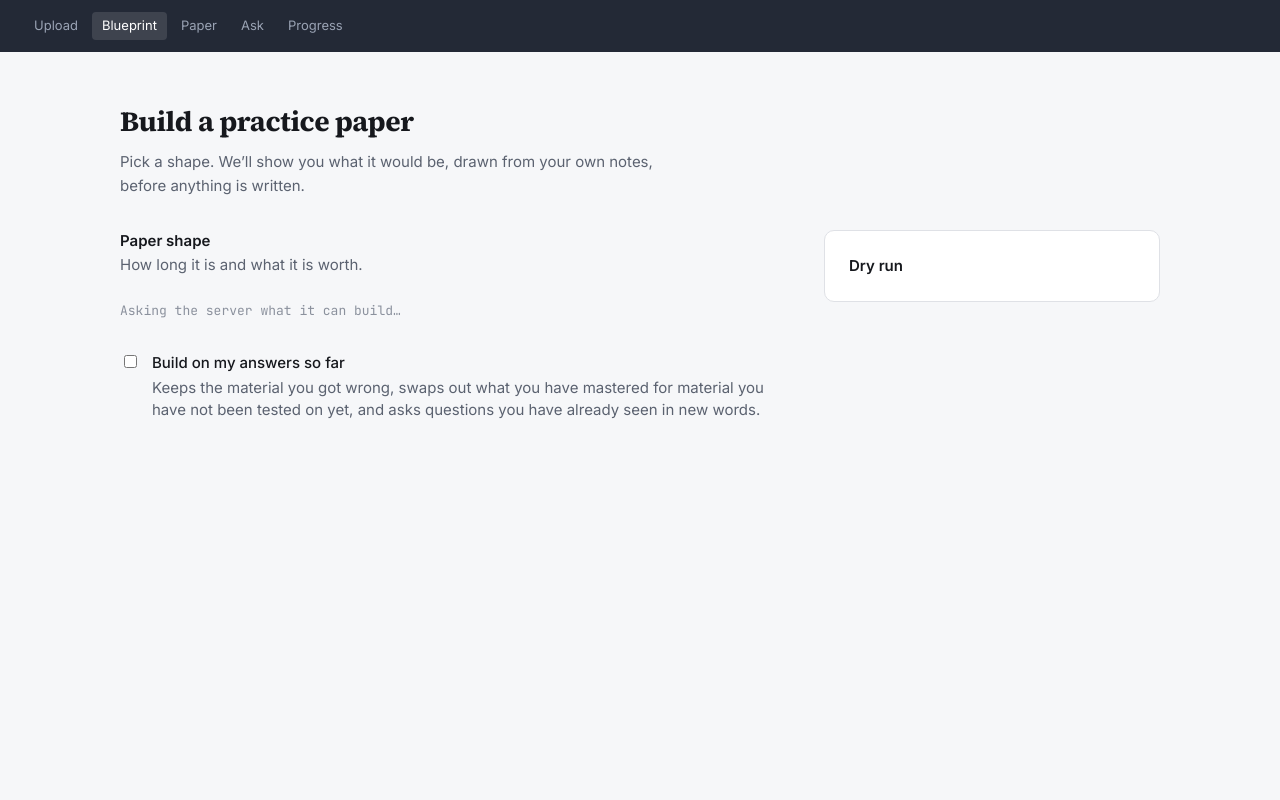
Test: taking a paper › does not offer a paper that could not be archived
Click the button "Paper". click: {"x": 199, "y": 26}
box: [171, 12, 227, 40]
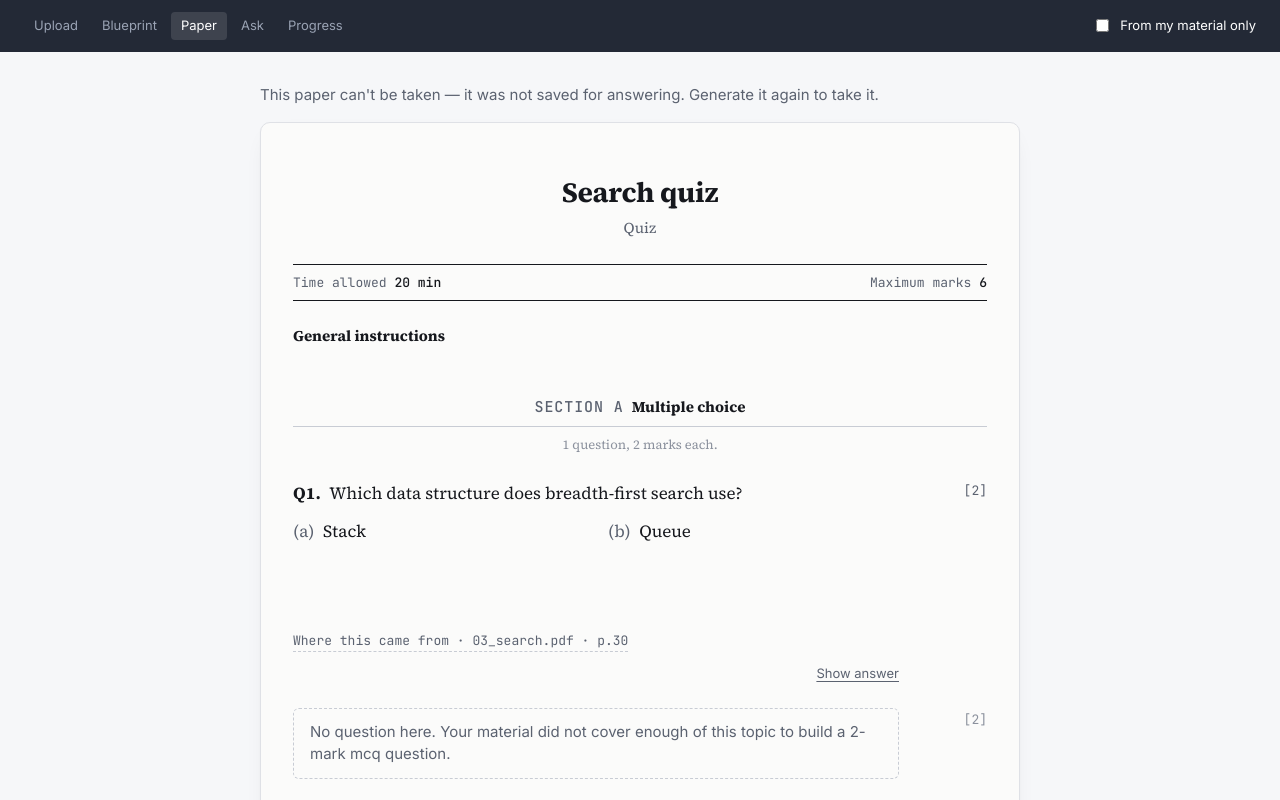
Expected: the text "can't be taken" is shown, [260, 84, 879, 104]
